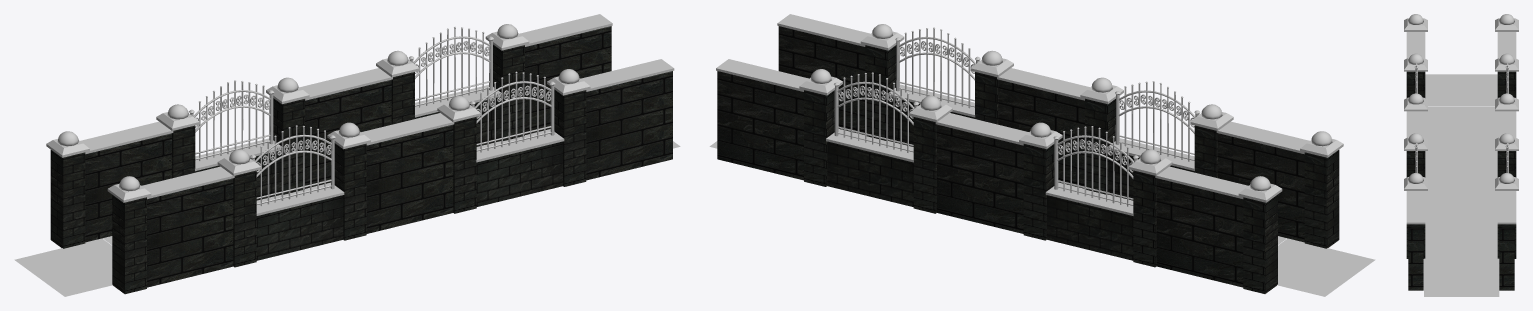
The picture shows the model from 3 angles, left to right: view 1: azimuth 30°, elevation 25°; view 2: azimuth 150°, elevation 25°; view 3: azimuth 270°, elevation 25°; orthographic projection. The views are drawn at different scales.
Visible parts, largest first — view 1: MuroAlto.001, MuroAlto, MuroAlto.002, MuroAlto.003, MuroAlto.004, MuroAlto.005, MuroBaixo.001, MuroBaixo, Pilar.005, Pilar.004, Chao.006, Pilar.002 (+13 smaller); view 2: MuroAlto.003, MuroAlto.005, MuroAlto.004, MuroAlto.002, MuroAlto, MuroAlto.001, MuroBaixo.002, MuroBaixo.003, Pilar.004, Pilar.005, Chao.006, Pilar.007 (+13 smaller); view 3: Chao, Chao.001, Chao.003, Chao.002, Chao.005, Chao.006, Chao.004, MuroAlto.005, MuroAlto, Pilar.008, Pilar.001, Pilar.006 (+15 smaller).
Boxes of the visible parts, x1,y1,x2,y2 form: MuroAlto.001: [361, 113, 454, 233]; MuroAlto: [581, 59, 674, 180]; MuroAlto.002: [141, 166, 234, 287]; MuroAlto.003: [80, 121, 173, 242]; MuroAlto.004: [300, 68, 392, 188]; MuroAlto.005: [519, 14, 612, 134]; MuroBaixo.001: [256, 183, 344, 260]; MuroBaixo: [476, 129, 564, 206]; Pilar.005: [46, 131, 89, 248]; Pilar.004: [107, 176, 151, 294]; Chao.006: [14, 238, 112, 296]; Pilar.002: [327, 122, 370, 240]; MuroAlto.003: [1155, 166, 1248, 287]; MuroAlto.005: [716, 59, 808, 180]; MuroAlto.004: [935, 113, 1028, 233]; MuroAlto.002: [1216, 121, 1309, 242]; MuroAlto: [777, 14, 870, 134]; MuroAlto.001: [997, 68, 1089, 188]; MuroBaixo.002: [1045, 183, 1133, 260]; MuroBaixo.003: [826, 129, 913, 206]; Pilar.004: [1300, 131, 1343, 248]; Pilar.005: [1238, 176, 1282, 293]; Chao.006: [1277, 238, 1375, 296]; Pilar.007: [1019, 122, 1062, 240]; Chao: [1424, 265, 1499, 296]; Chao.001: [1424, 233, 1499, 265]; Chao.003: [1425, 201, 1497, 233]; Chao.002: [1425, 169, 1497, 201]; Chao.005: [1425, 106, 1497, 137]; Chao.006: [1425, 74, 1497, 105]; Chao.004: [1425, 138, 1497, 169]; MuroAlto.005: [1497, 191, 1516, 290]; MuroAlto: [1406, 191, 1425, 290]; Pilar.008: [1495, 133, 1518, 177]; Pilar.001: [1404, 133, 1427, 177]; Pilar.006: [1495, 53, 1518, 97].
Bounding box in the file's own units: 1401 × 261 × 305.
